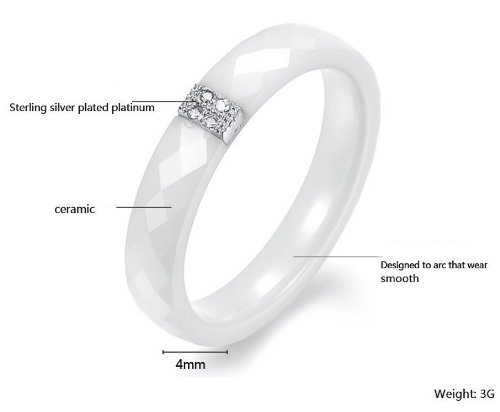36: (481, 389, 494, 398)
Designed: (381, 261, 419, 271)
Sterling: (10, 103, 46, 114)
Weight:: (434, 389, 476, 401)
plated: (78, 103, 108, 114)
platinum: (112, 103, 154, 114)
smooth: (381, 274, 419, 282)
to: (422, 262, 431, 268)
wear: (470, 249, 488, 277)
